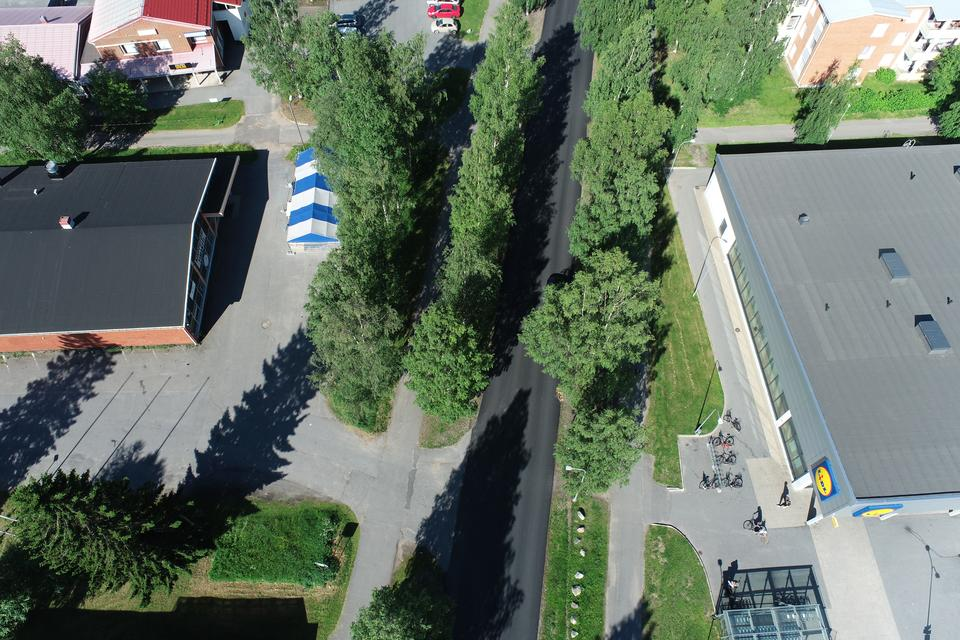intersection: (336, 399, 575, 585)
